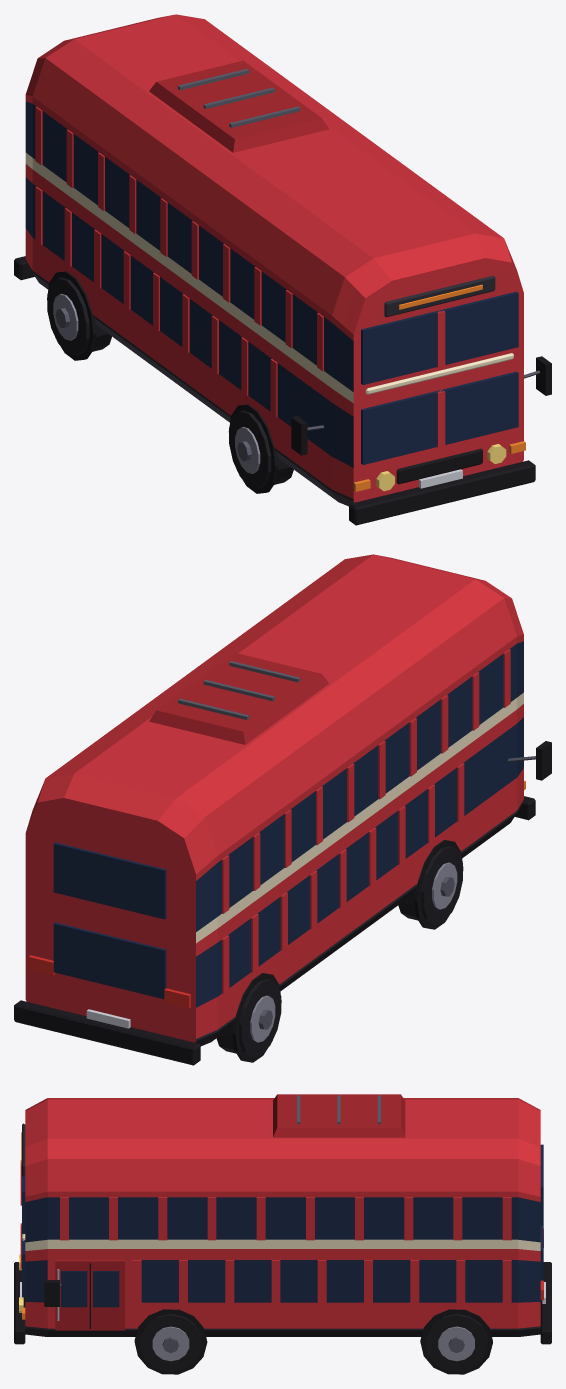
The model's file is bus-double.glb.
The picture shows the model from 3 angles, top to bottom: view 1: azimuth 30°, elevation 25°; view 2: azimuth 150°, elevation 25°; view 3: azimuth 270°, elevation 25°; orthographic projection. The views are drawn at different scales.
Parts seen in each view (by area): view 1: BusDouble; view 2: BusDouble; view 3: BusDouble.
Boxes of the visible parts, x1=… form: BusDouble: x1=14, y1=14, x2=551, y2=525; BusDouble: x1=14, y1=554, x2=551, y2=1065; BusDouble: x1=14, y1=1094, x2=551, y2=1374.
Bounding box in the file's own units: 2.03 × 2.26 × 4.8.
1 material, 1 textured.
